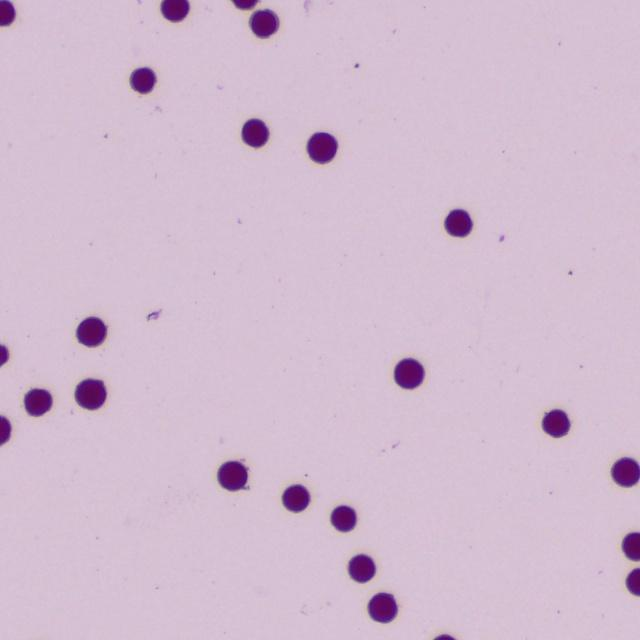viable: (75, 379, 106, 409), (307, 132, 337, 163), (394, 358, 424, 388), (76, 316, 106, 346), (217, 461, 247, 490), (368, 593, 397, 622), (24, 388, 52, 416), (612, 458, 639, 486), (348, 554, 375, 582), (250, 10, 278, 37), (542, 409, 569, 437), (445, 209, 472, 236), (130, 67, 156, 94), (242, 119, 268, 146), (282, 485, 309, 511), (331, 505, 356, 531), (161, 0, 189, 21), (624, 532, 639, 560), (0, 0, 14, 26), (627, 568, 639, 595), (0, 416, 11, 445), (232, 0, 256, 9), (0, 344, 9, 366), (434, 634, 454, 639)
